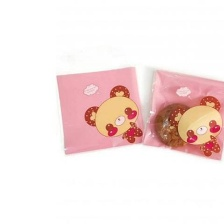snack: (51, 60, 152, 160), (137, 62, 223, 165)
